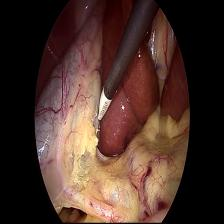Hook: (94, 86, 113, 125)
